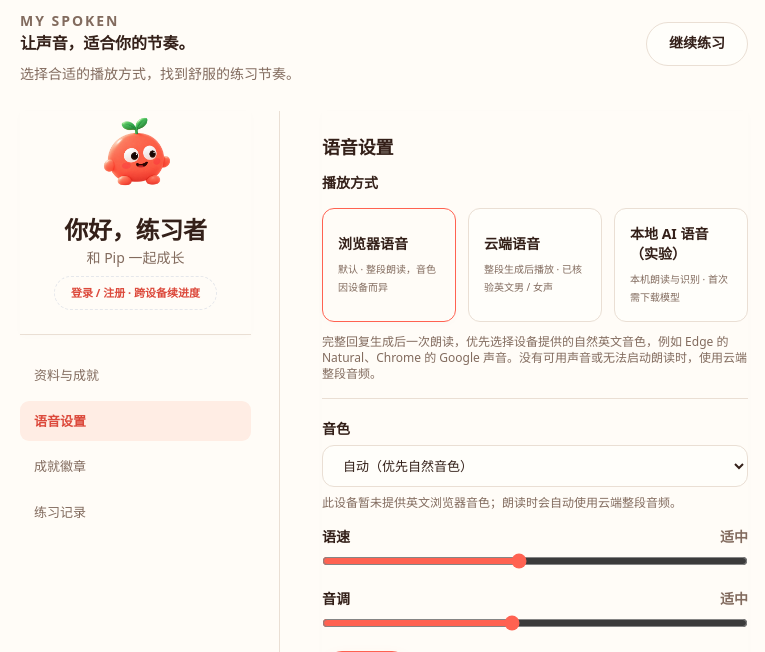
it: scrolls to badges after switching from the voice settings tab
Click the link "成就徽章" at (60, 466), box [34, 457, 86, 475]
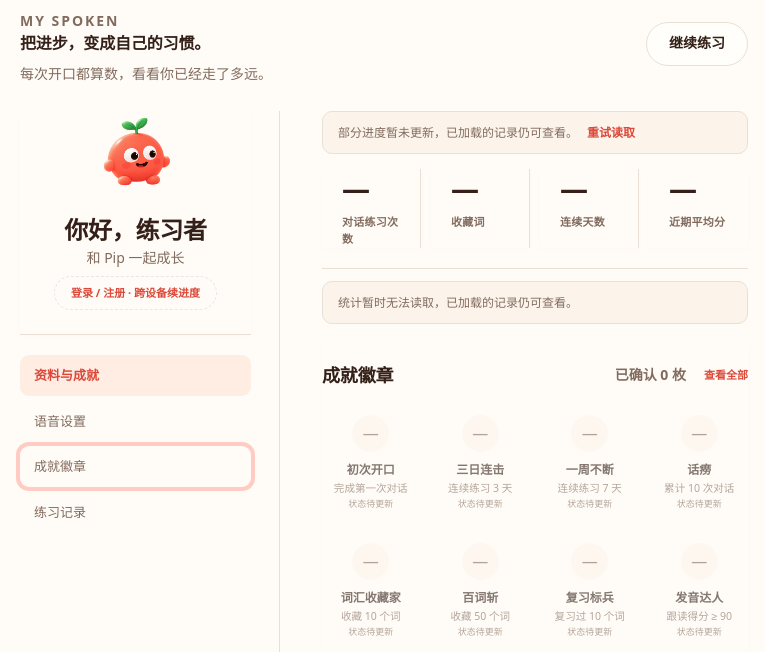
Check: the heading "成就徽章" is shown, box [322, 361, 393, 389]
